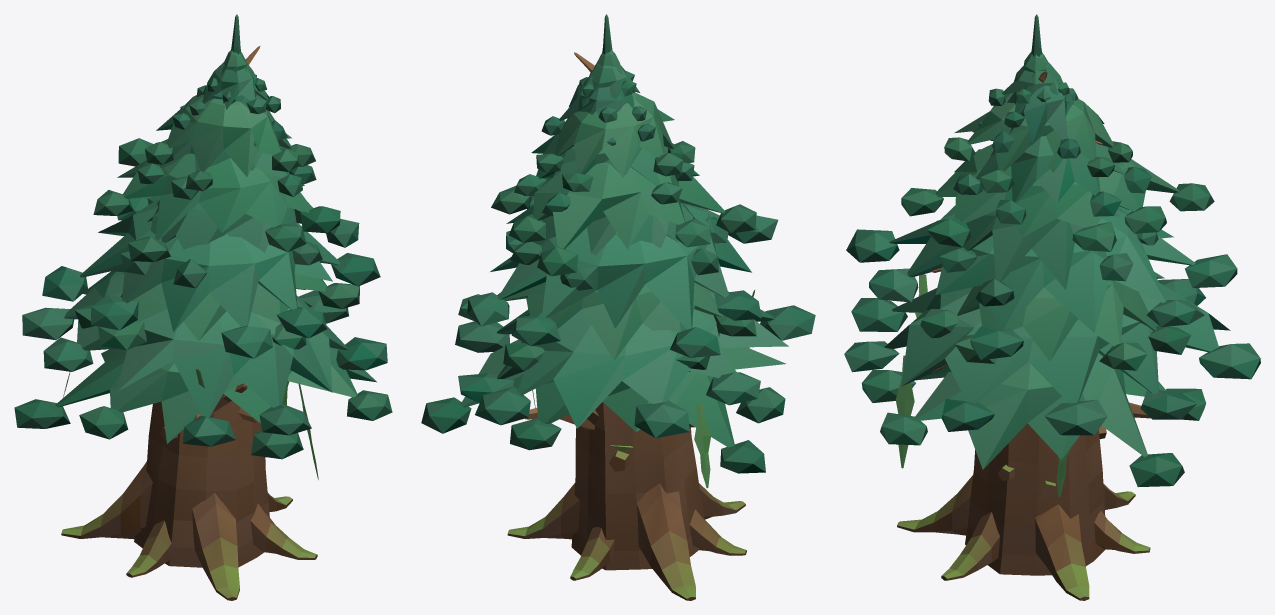
Rendered from world_tree_colossal_pine_v3.fbx.
3 renders of one model, left to right at view 1: azimuth 30°, elevation 25°; view 2: azimuth 150°, elevation 25°; view 3: azimuth 270°, elevation 25°, orthographic. The views are drawn at different scales.
Visible parts, largest first — view 1: world_tree_colossal_pine_v3; view 2: world_tree_colossal_pine_v3; view 3: world_tree_colossal_pine_v3.
Boxes of the visible parts, x1,y1,x2,y2 form: world_tree_colossal_pine_v3: (14, 14, 392, 600); world_tree_colossal_pine_v3: (421, 14, 815, 600); world_tree_colossal_pine_v3: (844, 14, 1260, 600).
Size of the model in its own units: 7439 by 11729 by 8034.
